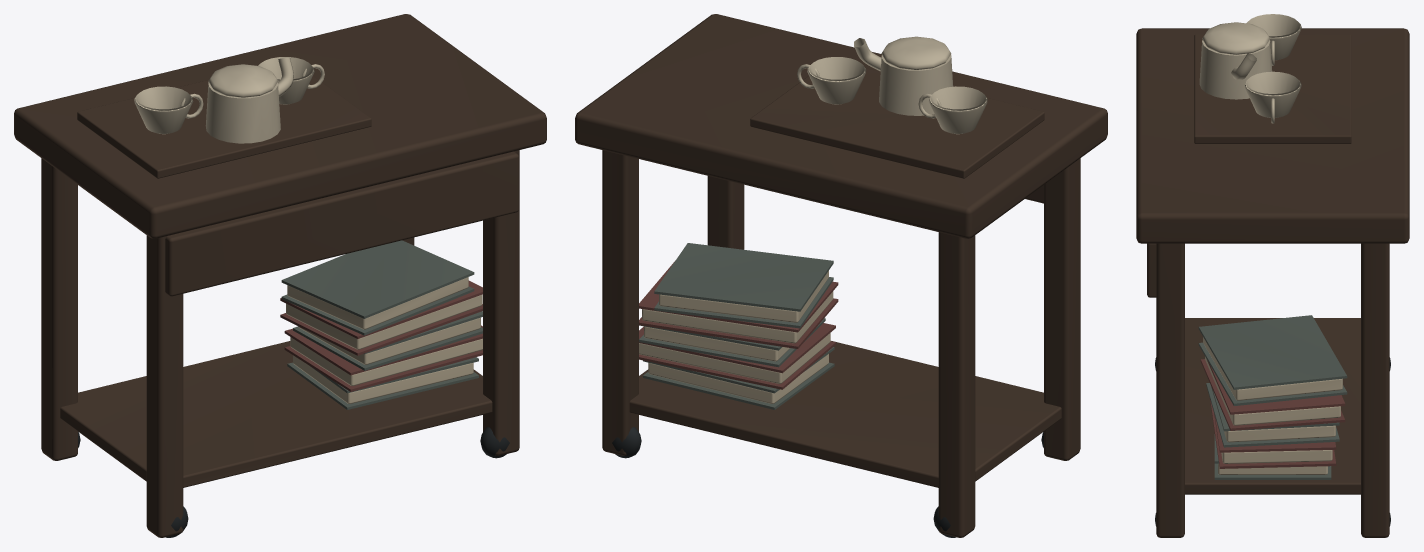
Rendered from prop-tea-cart-v01.glb.
3 views of the same model, side by side, from view 1: azimuth 30°, elevation 25°; view 2: azimuth 150°, elevation 25°; view 3: azimuth 270°, elevation 25° (orthographic). The views are drawn at different scales.
Visible parts, largest first — view 1: tea-cart; view 2: tea-cart; view 3: tea-cart.
Part boxes in pixels (left/top/right/bottom): tea-cart: left=14, top=14, right=546, bottom=537; tea-cart: left=575, top=14, right=1107, bottom=537; tea-cart: left=1136, top=14, right=1409, bottom=537.
Size of the model in its own units: 0.85 by 0.844 by 0.52.
